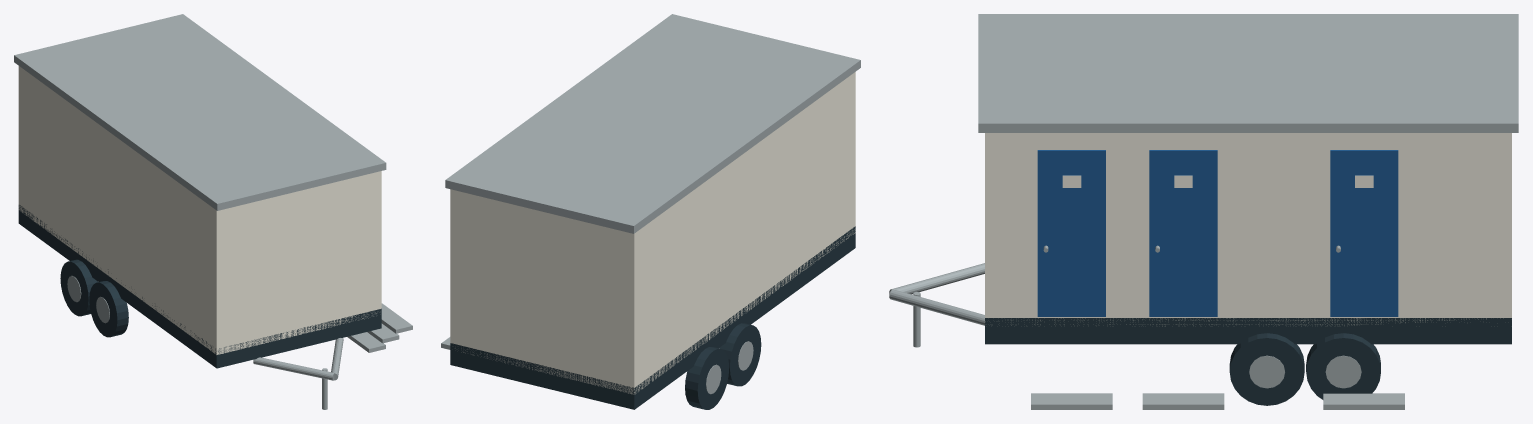
Rendered from scendance-plan-toilet-trailer.glb.
3 views of the same model, side by side, from view 1: azimuth 30°, elevation 25°; view 2: azimuth 150°, elevation 25°; view 3: azimuth 270°, elevation 25° (orthographic). The views are drawn at different scales.
Size of the model in its own units: 3.29 by 2.98 by 6.09.
